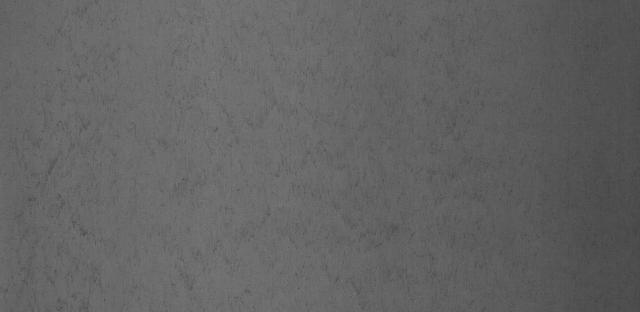silk_spot: (178, 45, 512, 273)
